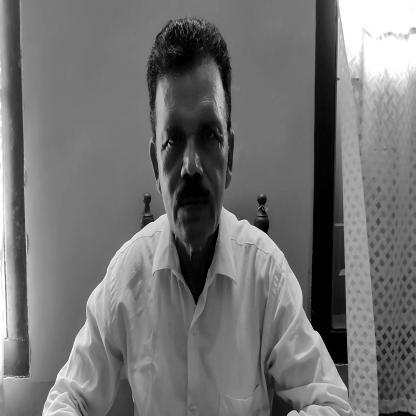Normal: (146, 23, 238, 244)
